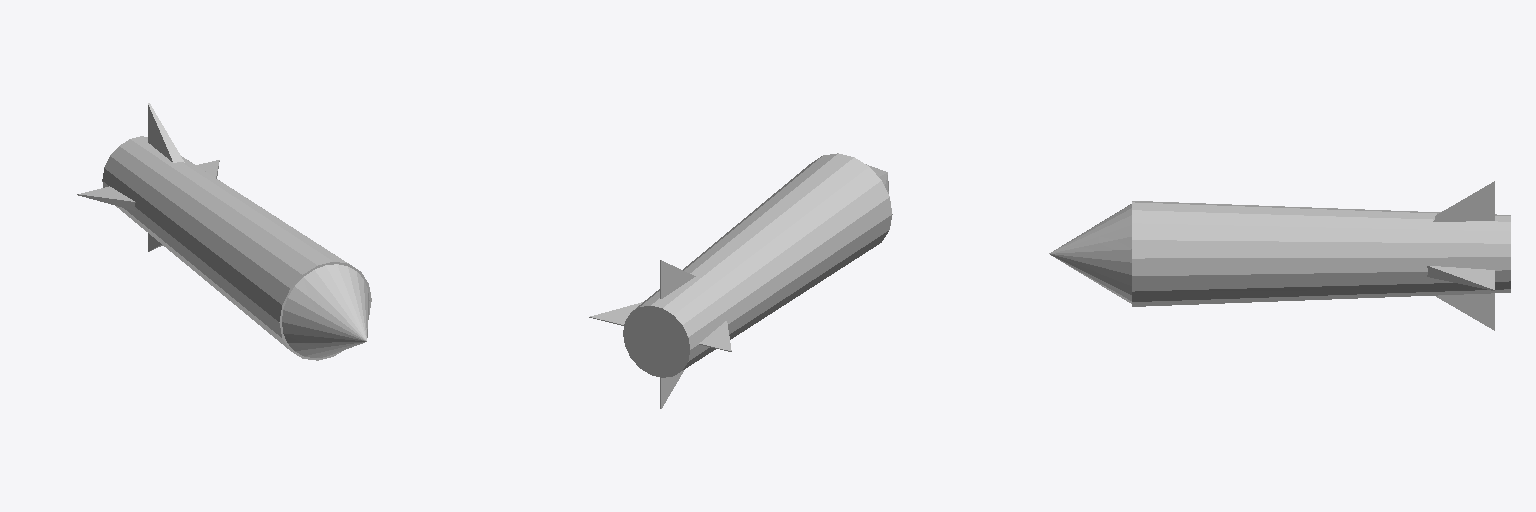
Rendered from rocket.obj.
3 renders of one model, left to right at view 1: azimuth 30°, elevation 25°; view 2: azimuth 150°, elevation 25°; view 3: azimuth 270°, elevation 25°, orthographic.
Visible parts, largest first — view 1: rocket, warhead, tail; view 2: rocket, tail; view 3: rocket, warhead, tail.
Boxes of the visible parts, x1=… form: rocket: x1=102, y1=136, x2=371, y2=360; warhead: x1=282, y1=264, x2=369, y2=357; tail: x1=77, y1=103, x2=219, y2=251; rocket: x1=623, y1=153, x2=892, y2=377; tail: x1=589, y1=260, x2=731, y2=408; rocket: x1=1132, y1=201, x2=1510, y2=306; warhead: x1=1049, y1=204, x2=1131, y2=303; tail: x1=1427, y1=181, x2=1494, y2=330.
Size of the model in its own units: 0.3185 by 0.3186 by 0.8964.